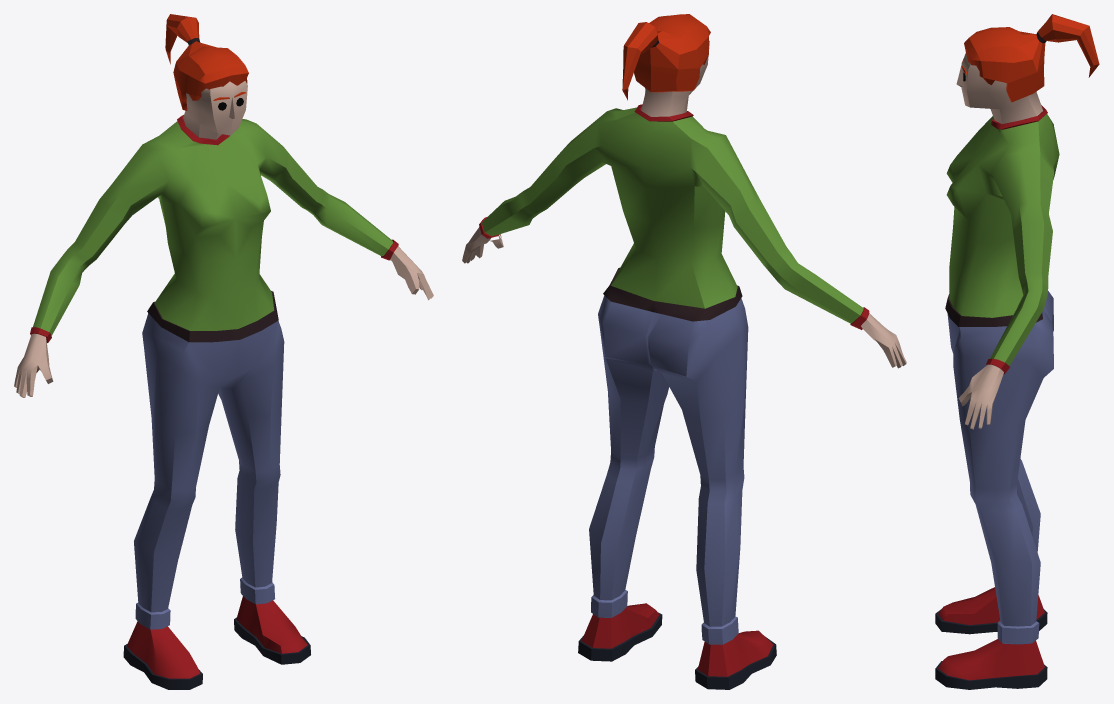
Rendered from LowPolyCharacter4.glb.
3 renders of one model, left to right at view 1: azimuth 30°, elevation 25°; view 2: azimuth 150°, elevation 25°; view 3: azimuth 270°, elevation 25°, orthographic. The views are drawn at different scales.
Parts seen in each view (by area): view 1: lowPolyCharacterFemaleFace7; view 2: lowPolyCharacterFemaleFace7; view 3: lowPolyCharacterFemaleFace7.
Part boxes in pixels (x1,y1,x2,y2): lowPolyCharacterFemaleFace7: (14,14,433,689); lowPolyCharacterFemaleFace7: (462,14,906,689); lowPolyCharacterFemaleFace7: (935,14,1099,689).
Size of the model in its own units: 1.33 by 1.9 by 0.4434.
